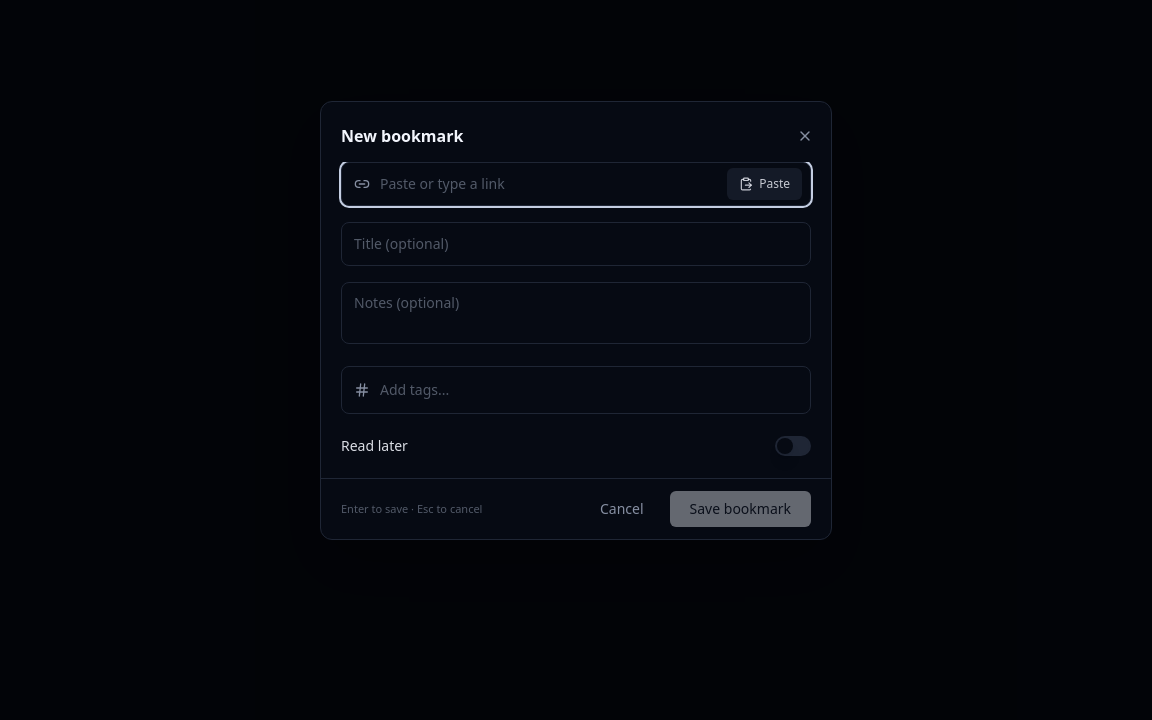
Test: AddBookmarkDialog › mobile tag picker › opens a full-sheet picker listing all existing tags
Click the button "Add tags..." at x=415, y=389, box [341,366,811,414]
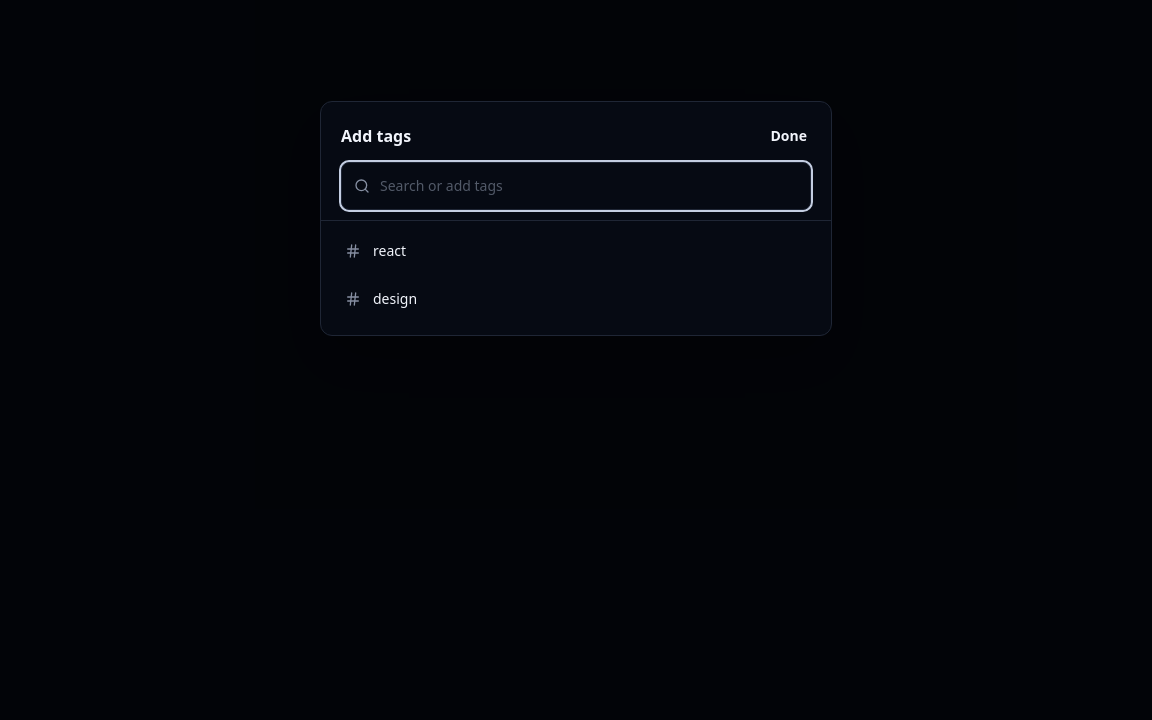
Expected: the button "react" is shown, [333,227,819,275]
Expected: the button "design" is shown, [333,275,819,323]
Expected: the heading "New bookmark" is gone
